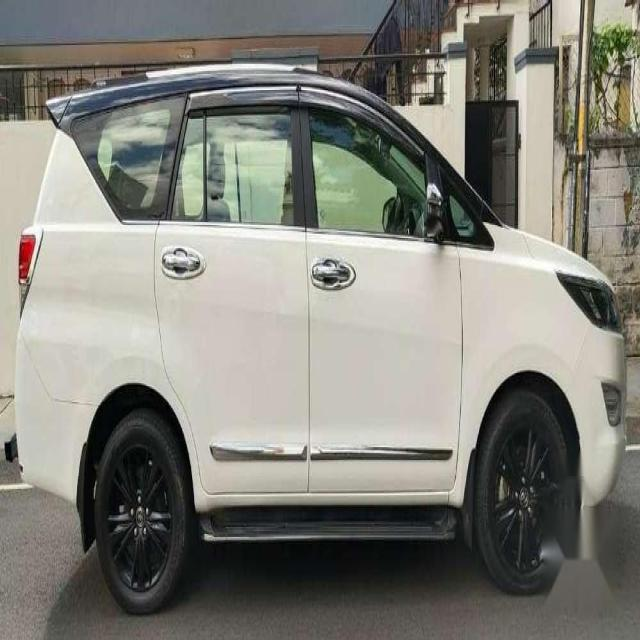light_vehicle: (9, 63, 628, 615)
